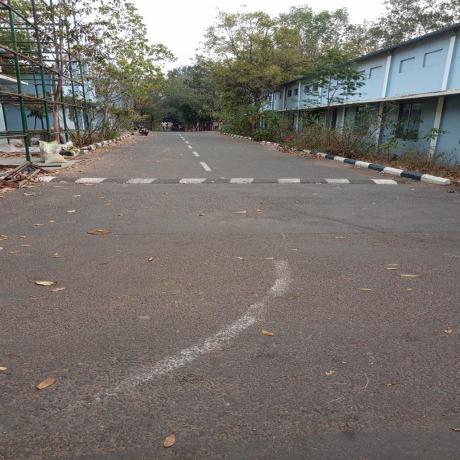Speed Bump: (15, 173, 413, 188)
